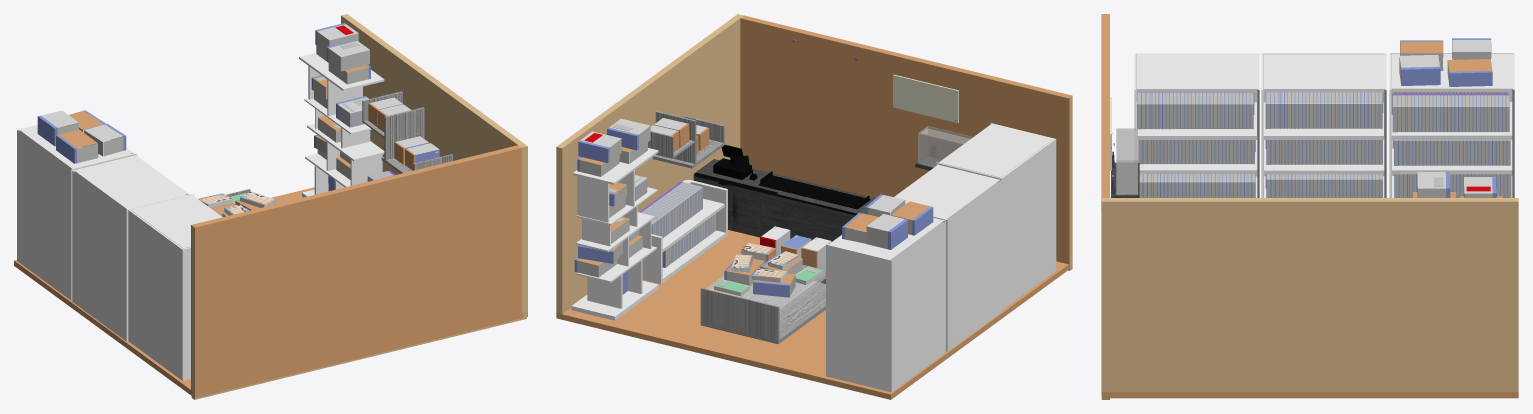
3 renders of one model, left to right at view 1: azimuth 30°, elevation 25°; view 2: azimuth 150°, elevation 25°; view 3: azimuth 270°, elevation 25°, orthographic. The views are drawn at different scales.
Parts seen in each view (by area): view 1: Cube; view 2: Cube; view 3: Cube.
Boxes of the visible parts, bbox=[...] form: Cube: bbox=[14, 14, 527, 399]; Cube: bbox=[556, 14, 1072, 399]; Cube: bbox=[1101, 14, 1518, 399].
Size of the model in its own units: 21.53 by 10.73 by 20.23.
Materials: 18 (3 with a texture image).
